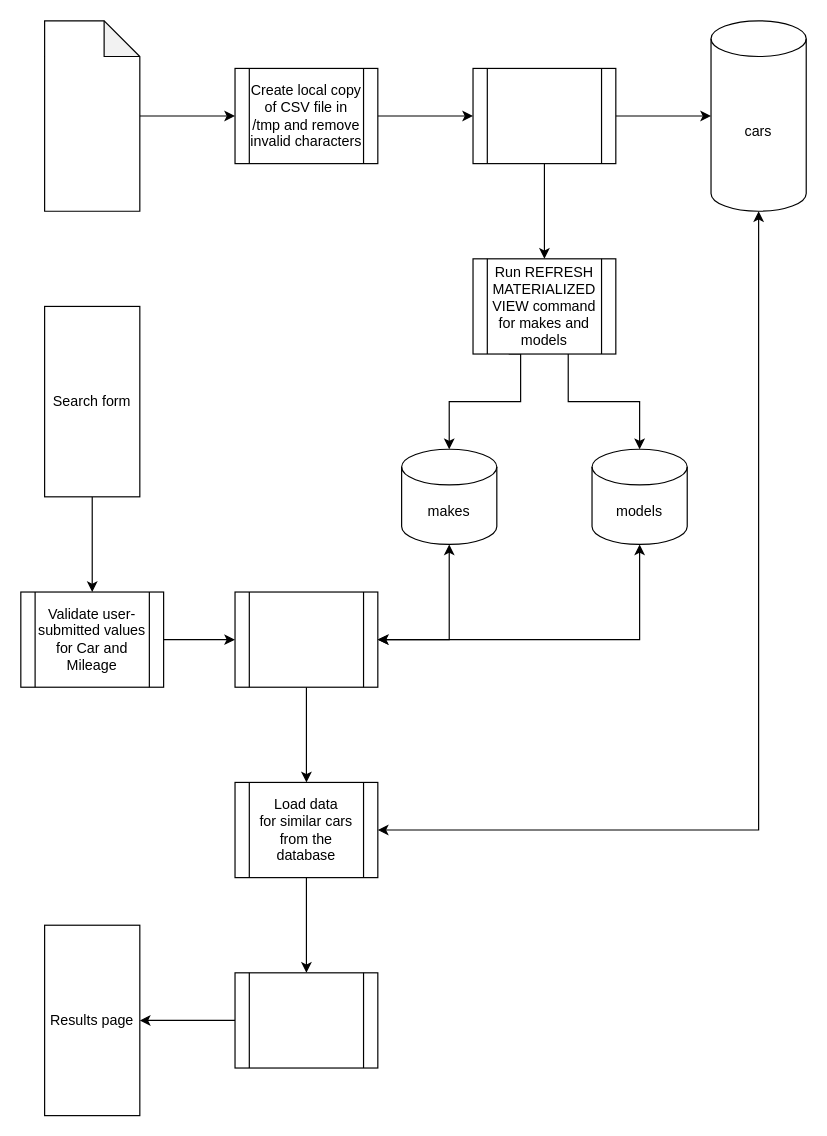
This 827x1136 diagram has some shape labels left out. The shapes that lost their labels are listed below. From the top down, each one's centre as x and y in pixels, then its label:
At (x=91, y=115): "CSV file".
At (x=544, y=115): "Run Postgres COPY command on CSV file in /tmp".
At (x=306, y=639): "Validate that we have data for the submitted make and model".
At (x=306, y=1020): "Calculate estimated value using data from similar cars".
